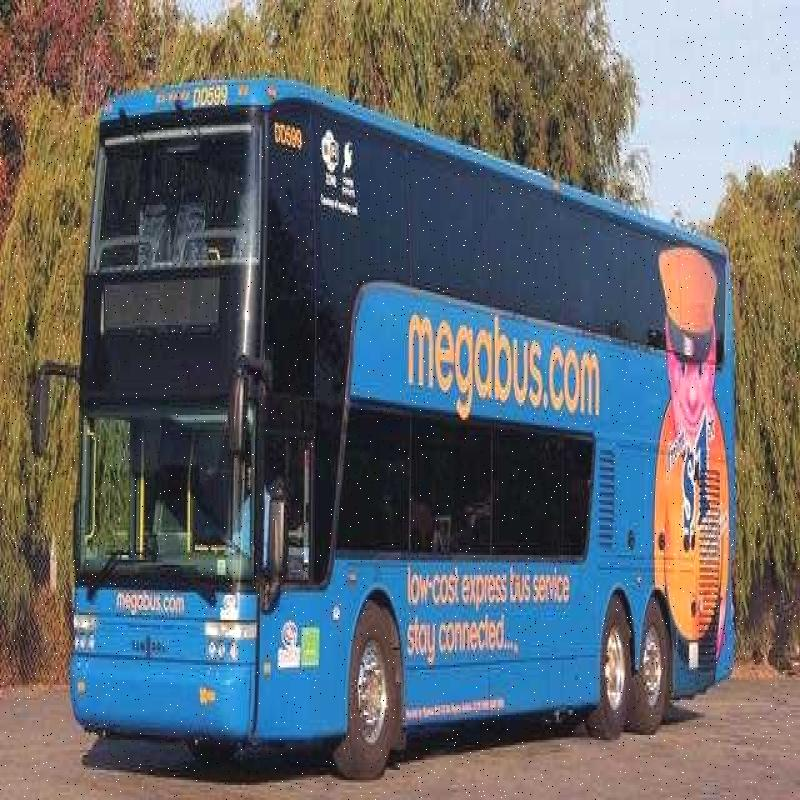bus: (66, 77, 750, 738)
